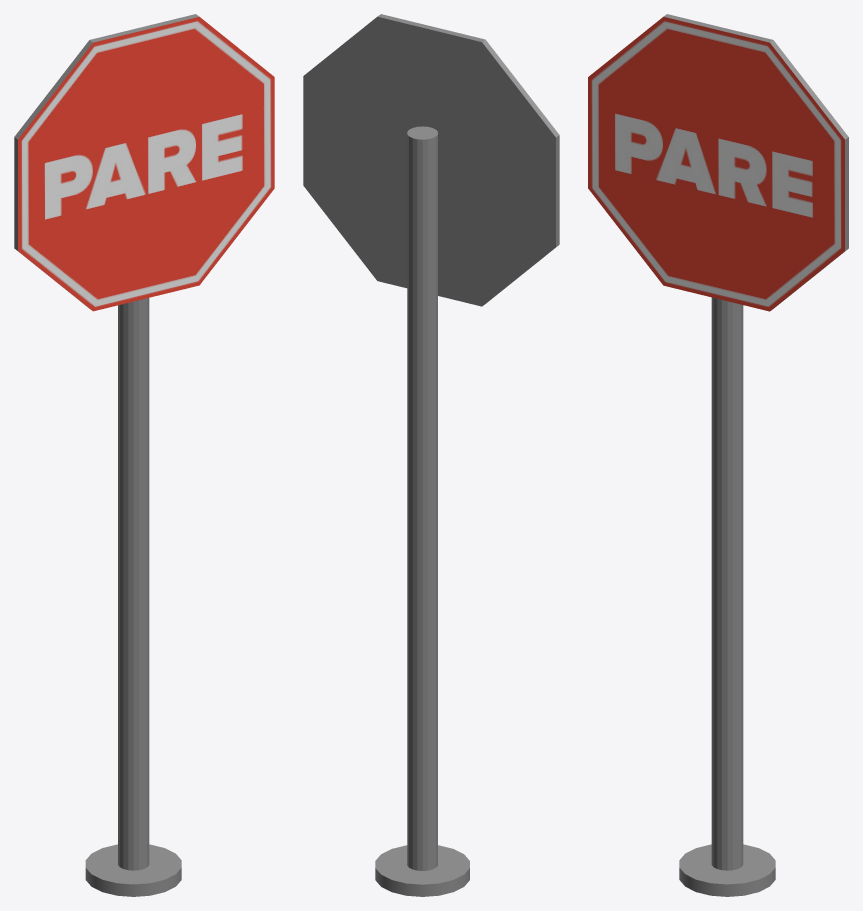
Rendered from placaPare.FBX.
The picture shows the model from 3 angles, left to right: view 1: azimuth 30°, elevation 25°; view 2: azimuth 150°, elevation 25°; view 3: azimuth 330°, elevation 25°; orthographic projection.
Parts seen in each view (by area): view 1: NGon001, Cylinder001; view 2: NGon001, Cylinder001; view 3: NGon001, Cylinder001.
Part boxes in pixels (bbox=[...]): NGon001: bbox=[14, 14, 274, 311]; Cylinder001: bbox=[85, 298, 181, 896]; NGon001: bbox=[303, 14, 559, 306]; Cylinder001: bbox=[375, 126, 469, 896]; NGon001: bbox=[588, 14, 848, 311]; Cylinder001: bbox=[679, 297, 775, 896].
Bounding box in the file's own units: 19.71 × 62.71 × 6.38.
3 materials, 1 textured.
